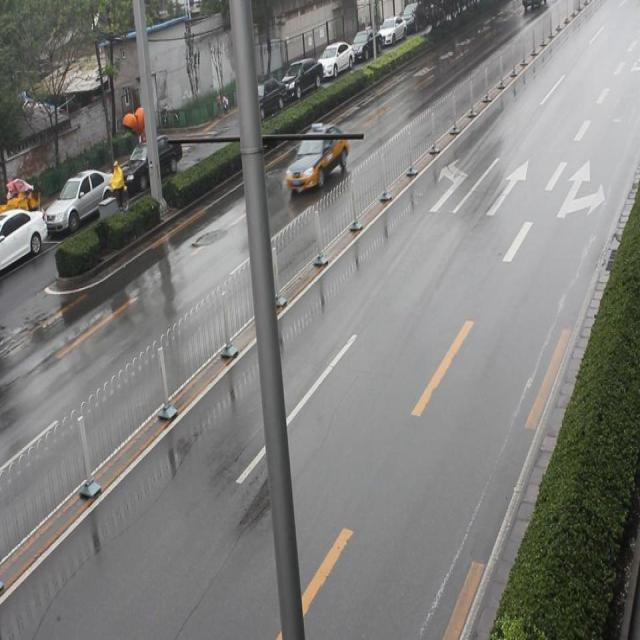car: (281, 121, 354, 201)
